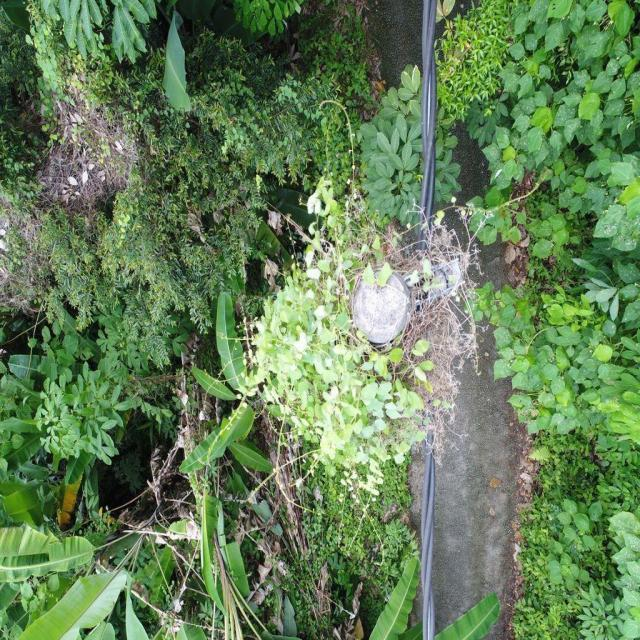critical vegetation: (231, 172, 480, 496)
